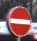No entry: (6, 5, 32, 36)
